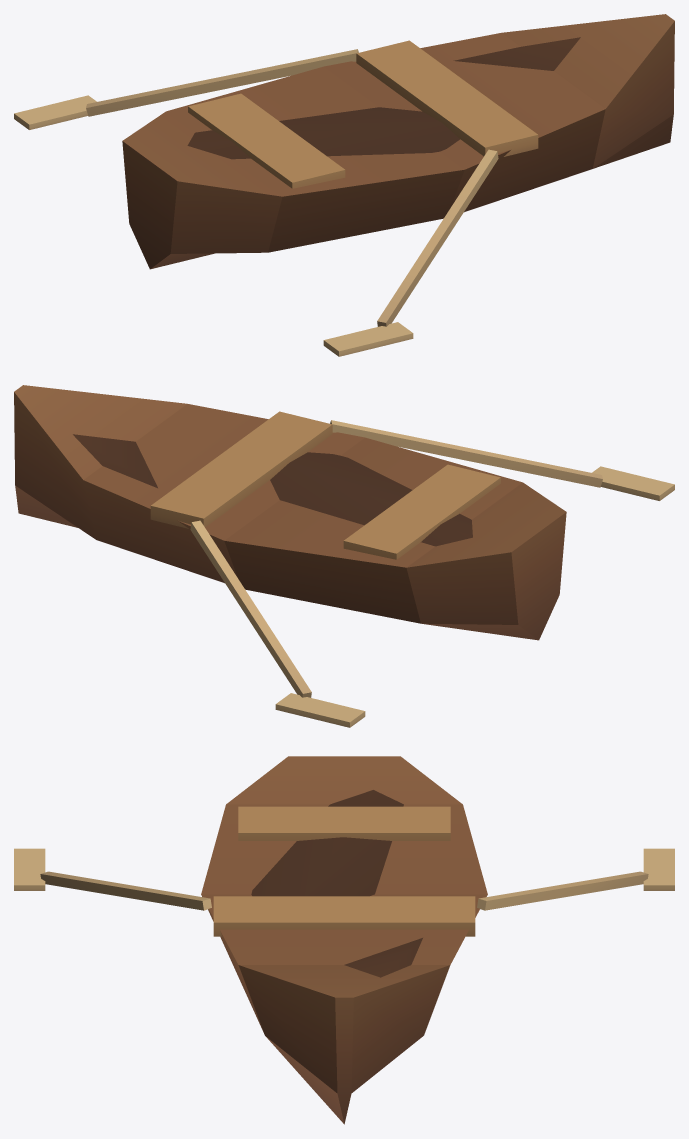
Rendered from rowboat.glb.
The picture shows the model from 3 angles, top to bottom: view 1: azimuth 30°, elevation 25°; view 2: azimuth 150°, elevation 25°; view 3: azimuth 270°, elevation 25°; orthographic projection.
Parts seen in each view (by area): view 1: rowboat; view 2: rowboat; view 3: rowboat.
Boxes of the visible parts, <box> form: rowboat: <box>14,14,674,356</box>; rowboat: <box>14,385,674,727</box>; rowboat: <box>14,756,674,1124</box>.
Bounding box in the file's own units: 9.8 × 2.25 × 10.6.
Materials: 1 (1 with a texture image).
